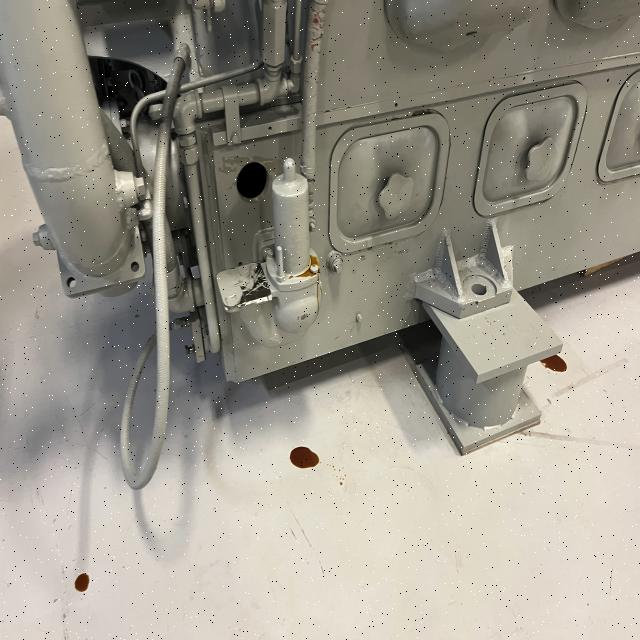Oil Leak: (249, 156, 328, 336), (286, 442, 322, 475), (539, 349, 570, 379), (72, 571, 92, 594)
